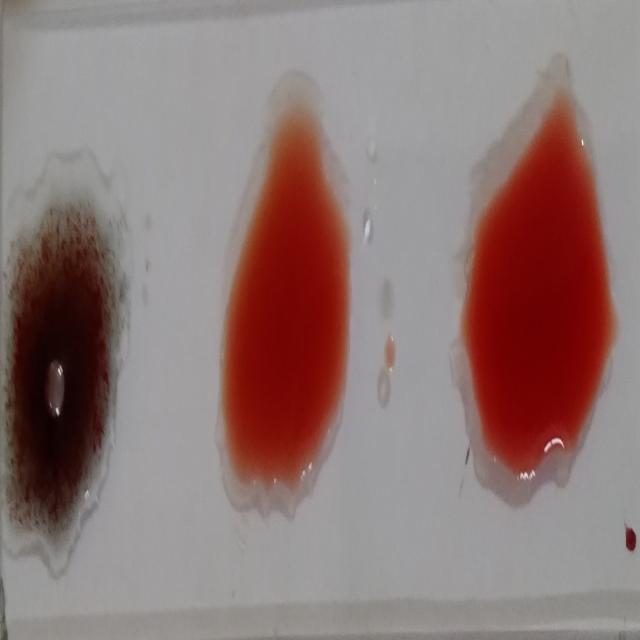A: (0, 167, 123, 582)
